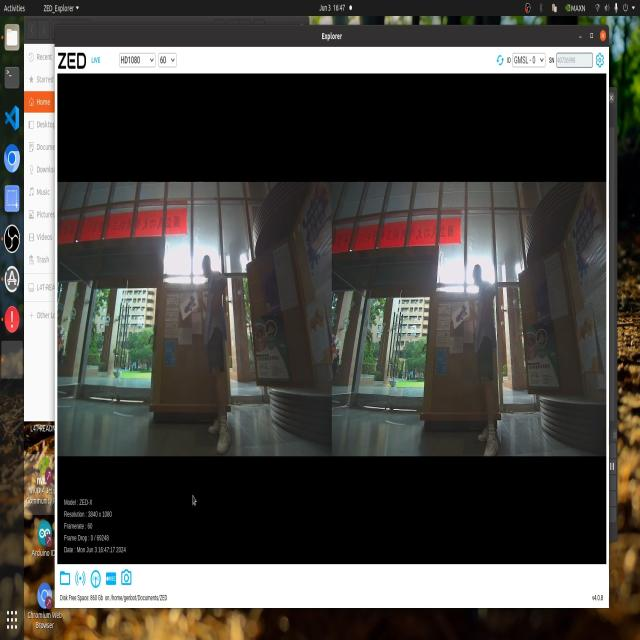blue: (177, 292, 205, 322), (447, 297, 471, 326)
